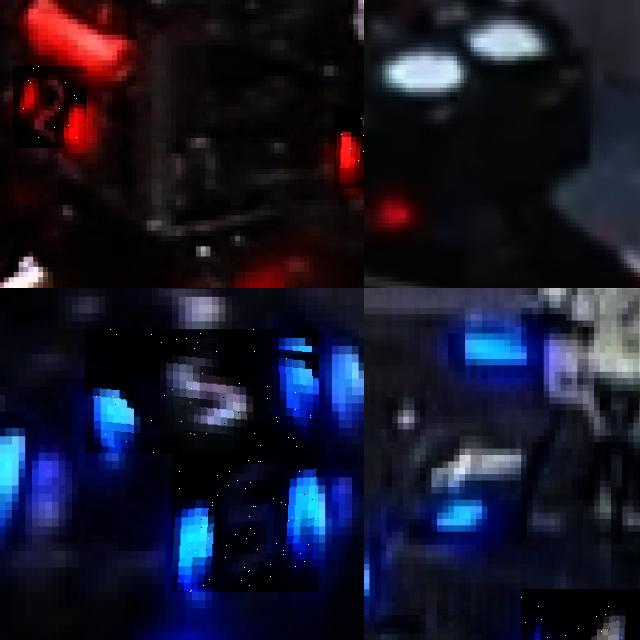B4: (521, 589, 640, 640)
B5: (85, 329, 319, 453), (172, 453, 319, 592), (0, 370, 25, 518)
R2: (13, 66, 88, 148), (333, 106, 364, 189)
